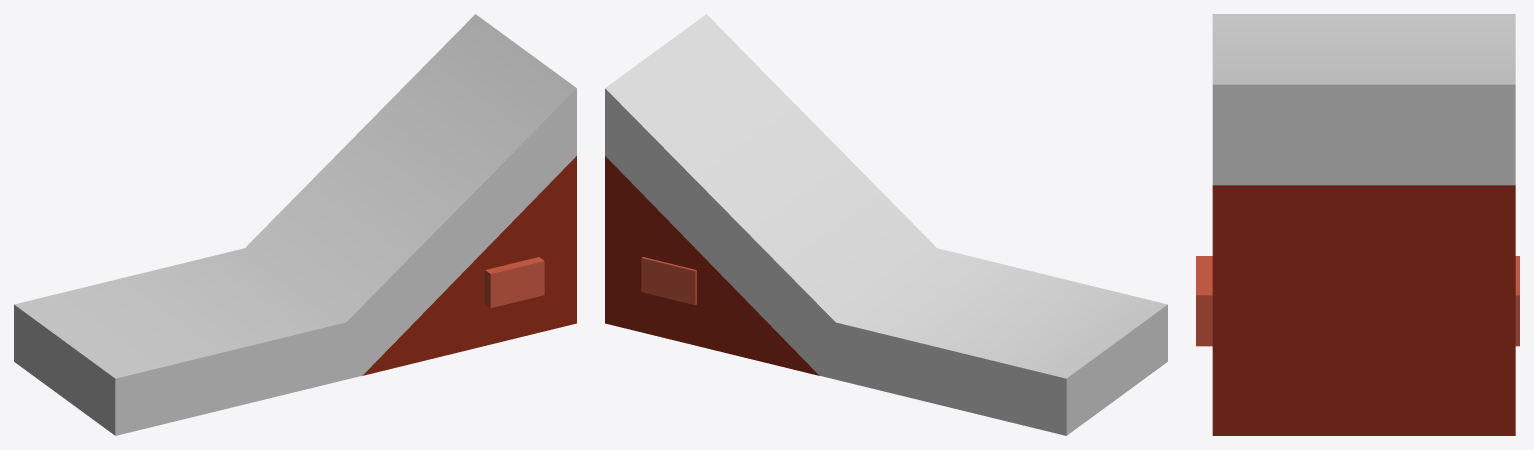
The model's file is wall4.FBX.
3 renders of one model, left to right at view 1: azimuth 30°, elevation 25°; view 2: azimuth 150°, elevation 25°; view 3: azimuth 270°, elevation 25°, orthographic. The views are drawn at different scales.
Parts seen in each view (by area): view 1: Wall4; view 2: Wall4; view 3: Wall4.
Boxes of the visible parts, bbox=[...] form: Wall4: bbox=[14, 14, 576, 435]; Wall4: bbox=[605, 14, 1167, 435]; Wall4: bbox=[1196, 14, 1519, 435].
Size of the model in its own units: 46.2 by 22.53 by 18.79.
